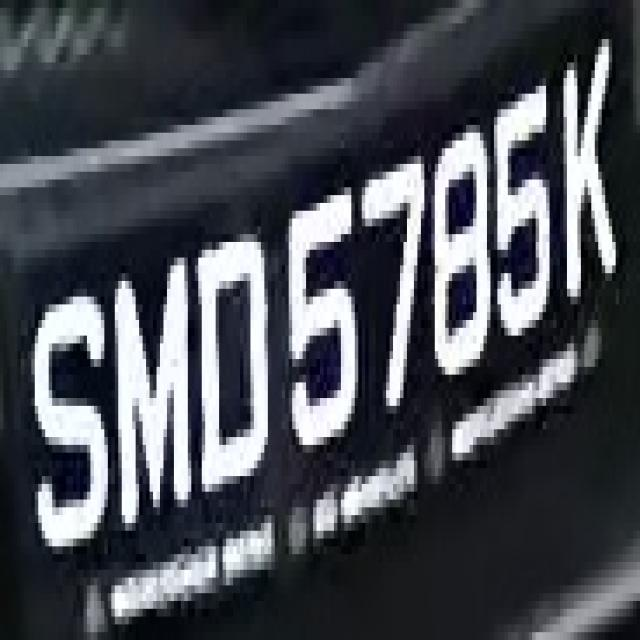5: (278, 164, 362, 468), (484, 70, 564, 367)
7: (341, 141, 428, 437)
8: (421, 117, 504, 390)
D: (181, 210, 275, 500)
K: (550, 16, 622, 312)
M: (98, 242, 192, 546)
S: (18, 273, 112, 562)
